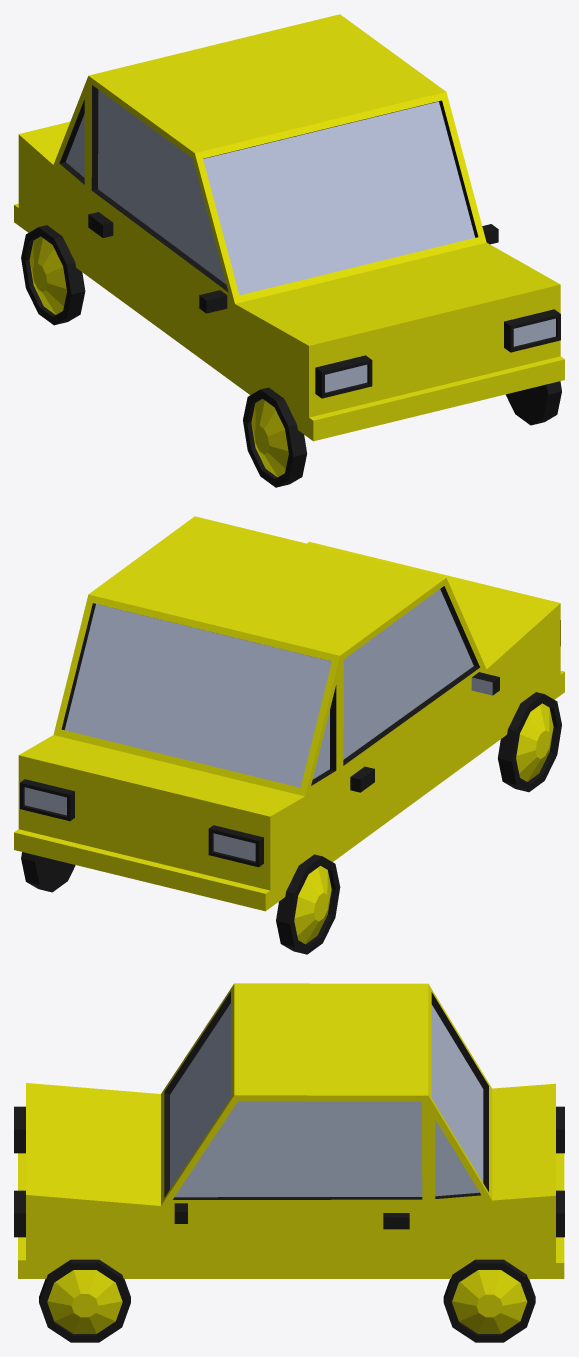
Rendered from Car 7.fbx.
3 views of the same model, one above another, from view 1: azimuth 30°, elevation 25°; view 2: azimuth 150°, elevation 25°; view 3: azimuth 270°, elevation 25° (orthographic). The views are drawn at different scales.
Parts seen in each view (by area): view 1: Car, Back Right Tire, Front Right Tire, Front Left Tire; view 2: Car, Front Right Tire, Back Right Tire, Back Left Tire; view 3: Car, Back Left Tire, Front Left Tire.
Part boxes in pixels (left/top/right/bottom): Car: left=14, top=14, right=564, bottom=441; Back Right Tire: left=21, top=225, right=85, bottom=325; Front Right Tire: left=243, top=387, right=307, bottom=487; Front Left Tire: left=505, top=381, right=561, bottom=425; Car: left=14, top=516, right=564, bottom=911; Front Right Tire: left=497, top=692, right=561, bottom=792; Back Right Tire: left=276, top=854, right=340, bottom=954; Back Left Tire: left=21, top=852, right=75, bottom=892; Car: left=14, top=983, right=564, bottom=1278; Back Left Tire: left=443, top=1259, right=535, bottom=1342; Front Left Tire: left=39, top=1259, right=130, bottom=1342.
Size of the model in its own units: 2.32 by 2.03 by 4.16.
